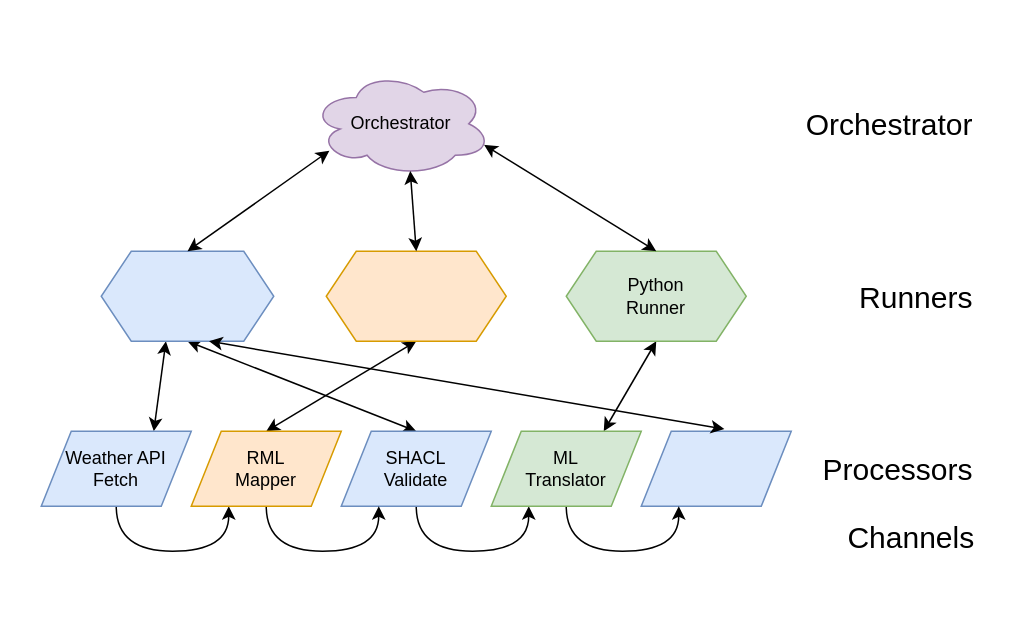
Image size: 1011x621. Some labels were removed from this diagram. The box of each missing label's shape, as (x1, y1, x2, y2) in pixels:
Javascript Runner: (100, 250, 274, 341)
JVM Runner: (325, 250, 506, 341)
SPARQL Ingest: (640, 430, 791, 506)
